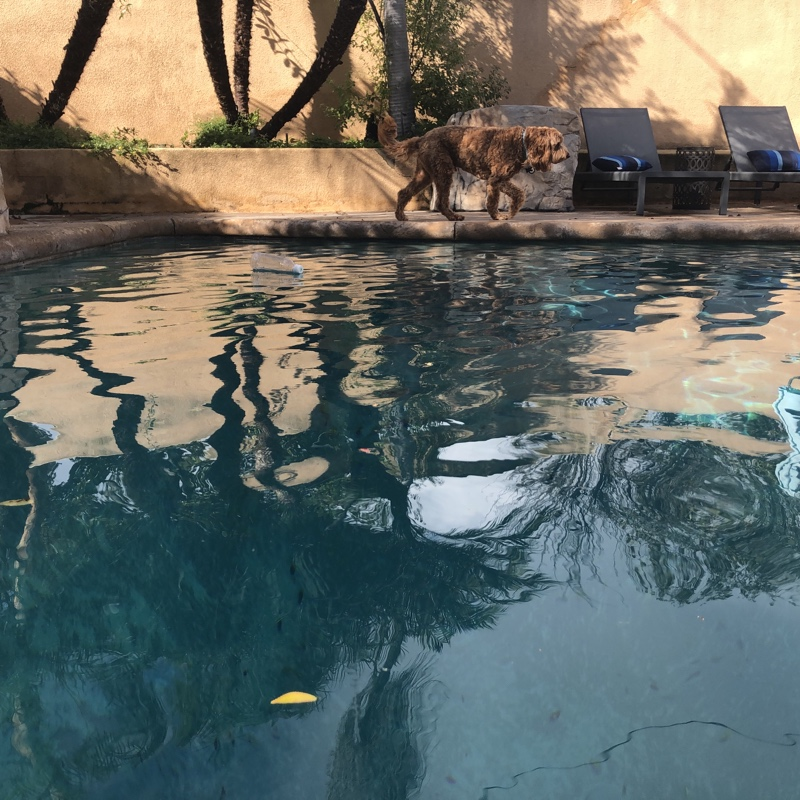Plastic Bottle: (249, 253, 307, 278)
